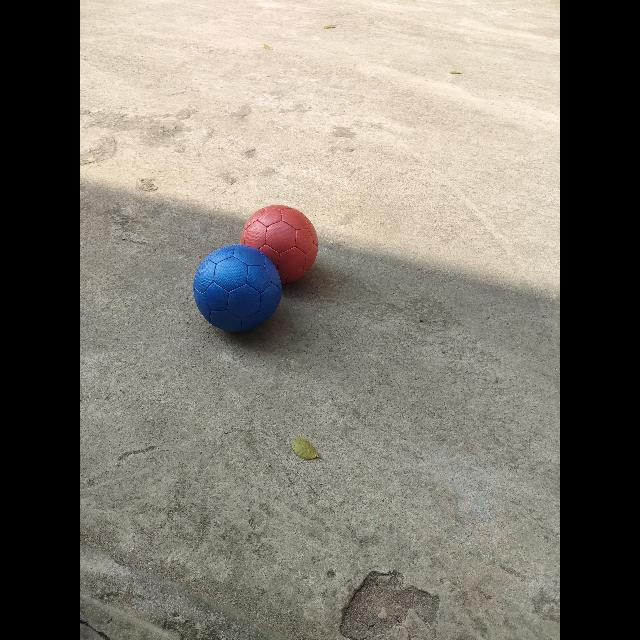B: (193, 246, 283, 335)
R: (240, 205, 319, 284)
